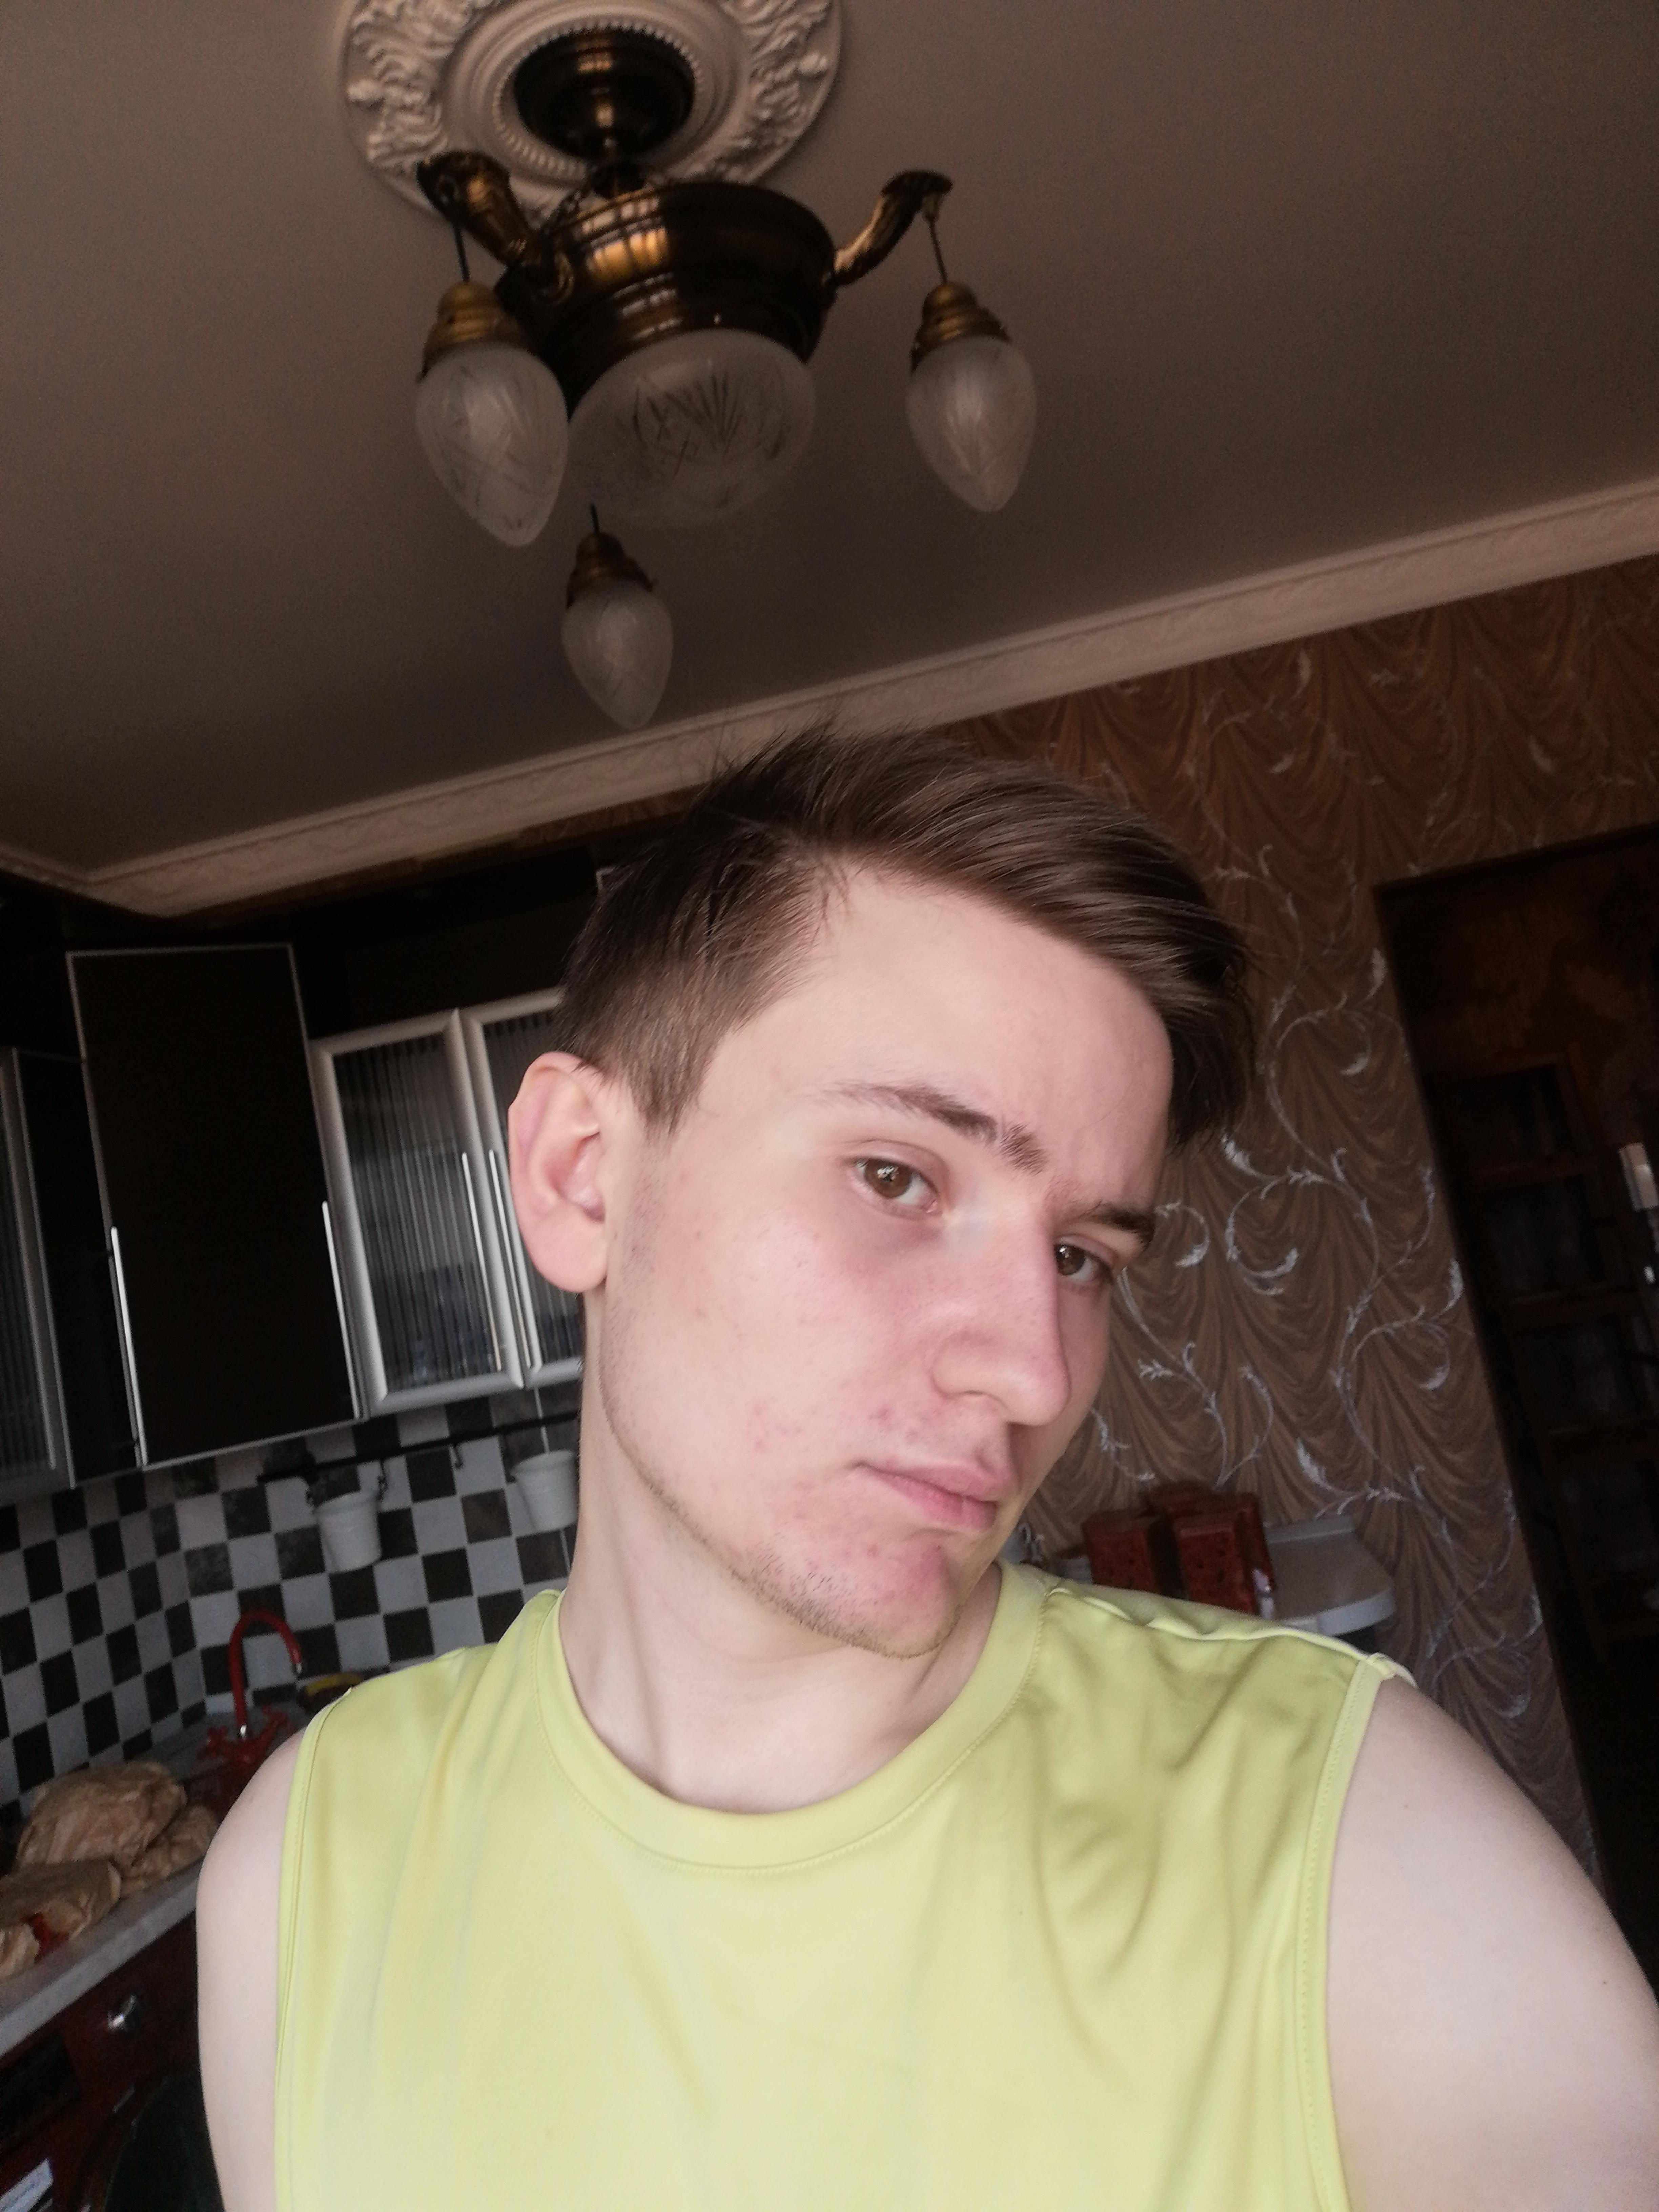Acne: (903, 1404, 945, 1446), (866, 1399, 897, 1426), (685, 1221, 713, 1249), (742, 1432, 770, 1456), (749, 1402, 770, 1430), (864, 1541, 887, 1559), (767, 1059, 782, 1083), (690, 1306, 709, 1324), (880, 1454, 899, 1472), (676, 1169, 692, 1190), (835, 1548, 849, 1561)
Englarged-Pores: (835, 1263, 957, 1332), (1004, 1252, 1044, 1362)
